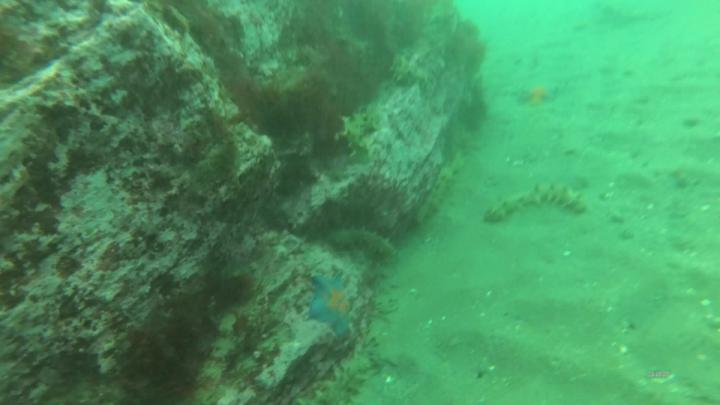holothurian: (484, 181, 589, 223), (304, 360, 376, 405), (325, 222, 400, 260), (341, 104, 382, 166), (423, 168, 457, 223), (391, 47, 421, 90)
starfish: (310, 274, 354, 340), (519, 79, 559, 111)
